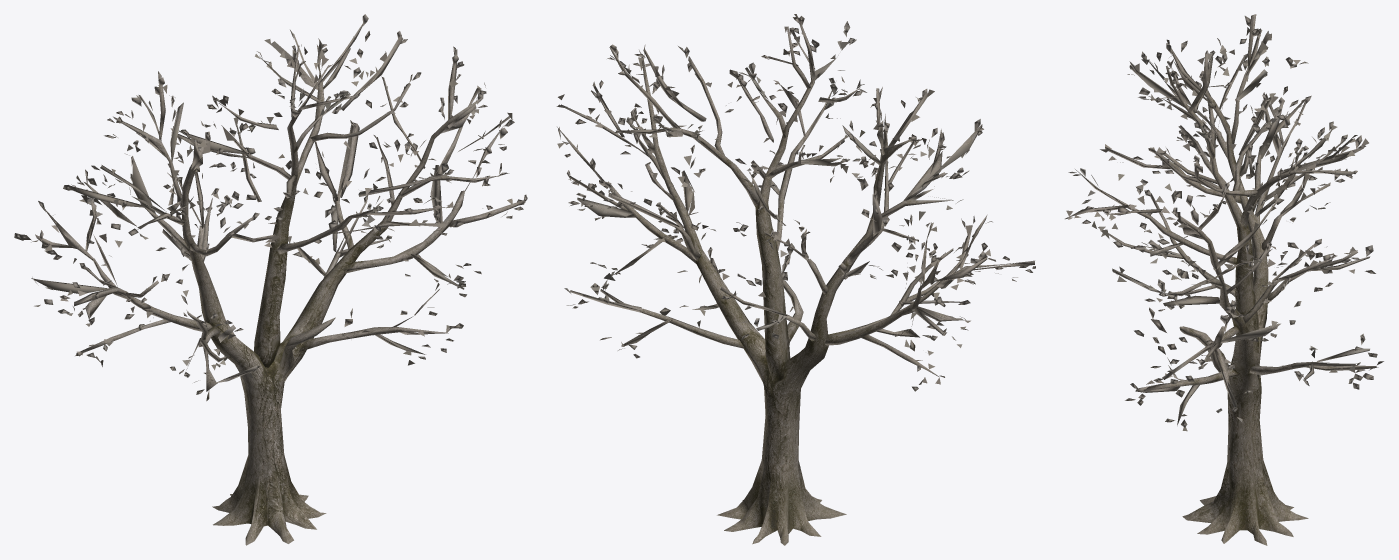
The model's file is Meshy_AI_Winter_Sentinel_0915211325_texture (1).glb.
3 views of the same model, side by side, from view 1: azimuth 30°, elevation 25°; view 2: azimuth 150°, elevation 25°; view 3: azimuth 270°, elevation 25° (orthographic). The views are drawn at different scales.
Bounding box in the file's own units: 1 × 1 × 0.6133.
1 material, 1 textured.
